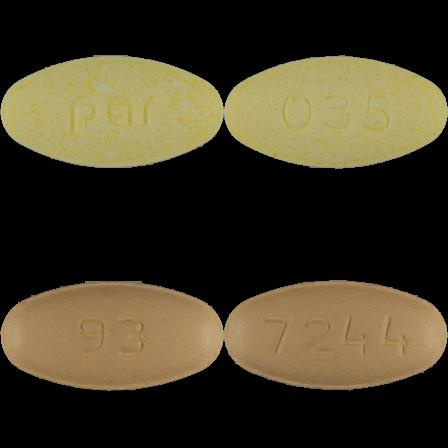63629-1266: (0, 0, 224, 224)
